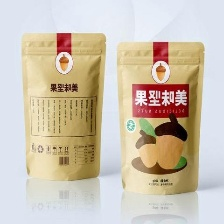snack: (112, 36, 211, 199), (15, 26, 110, 184)
